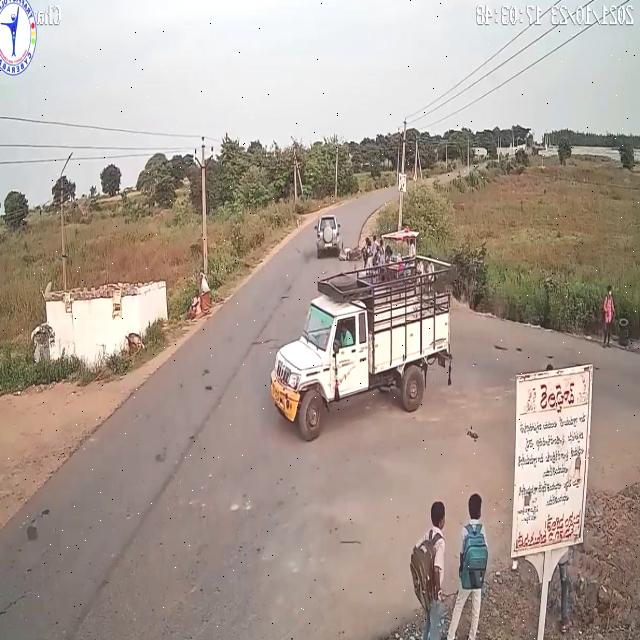accident: (310, 211, 365, 269)
